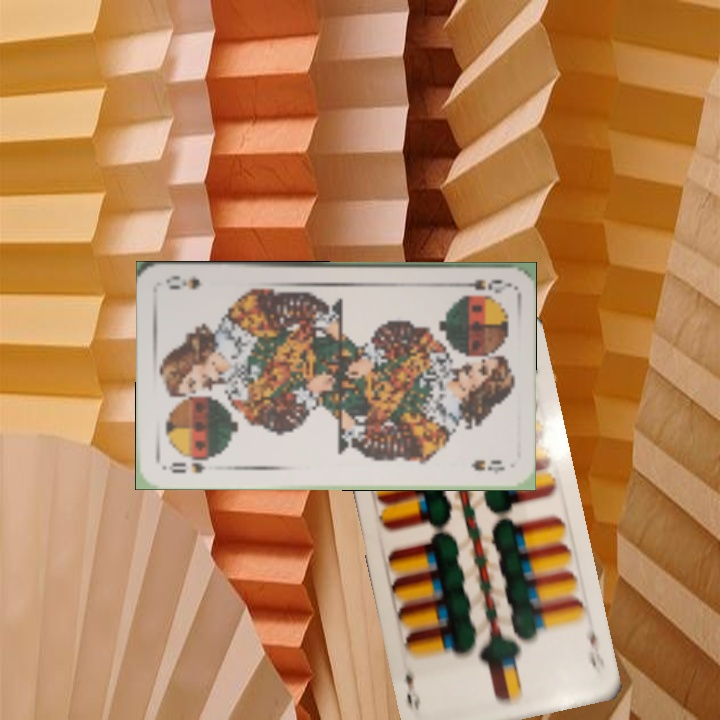E9: (585, 619, 608, 676)
SO: (451, 276, 510, 296), (160, 454, 211, 476)
